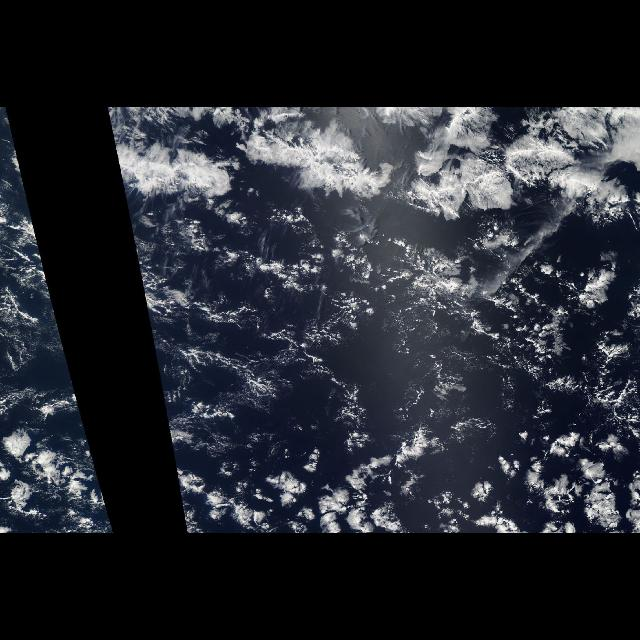Flower: (108, 109, 640, 241), (166, 388, 640, 534), (5, 418, 114, 534), (1, 109, 40, 241)
Gravel: (132, 253, 636, 413), (10, 253, 80, 413)
